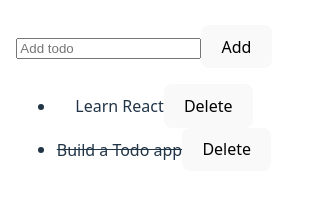
TodoList component › adds a new todo
Step 1. Type "Write tests" into the field named "todo-input" → point(109, 48), box [16, 38, 201, 59]
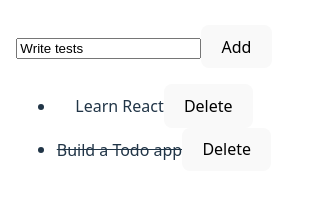
Step 2. Click the button "Add" → point(237, 47), box [201, 25, 272, 68]
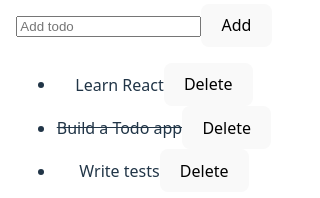
Result: the button "Write tests" is shown at [79, 160, 160, 182]
